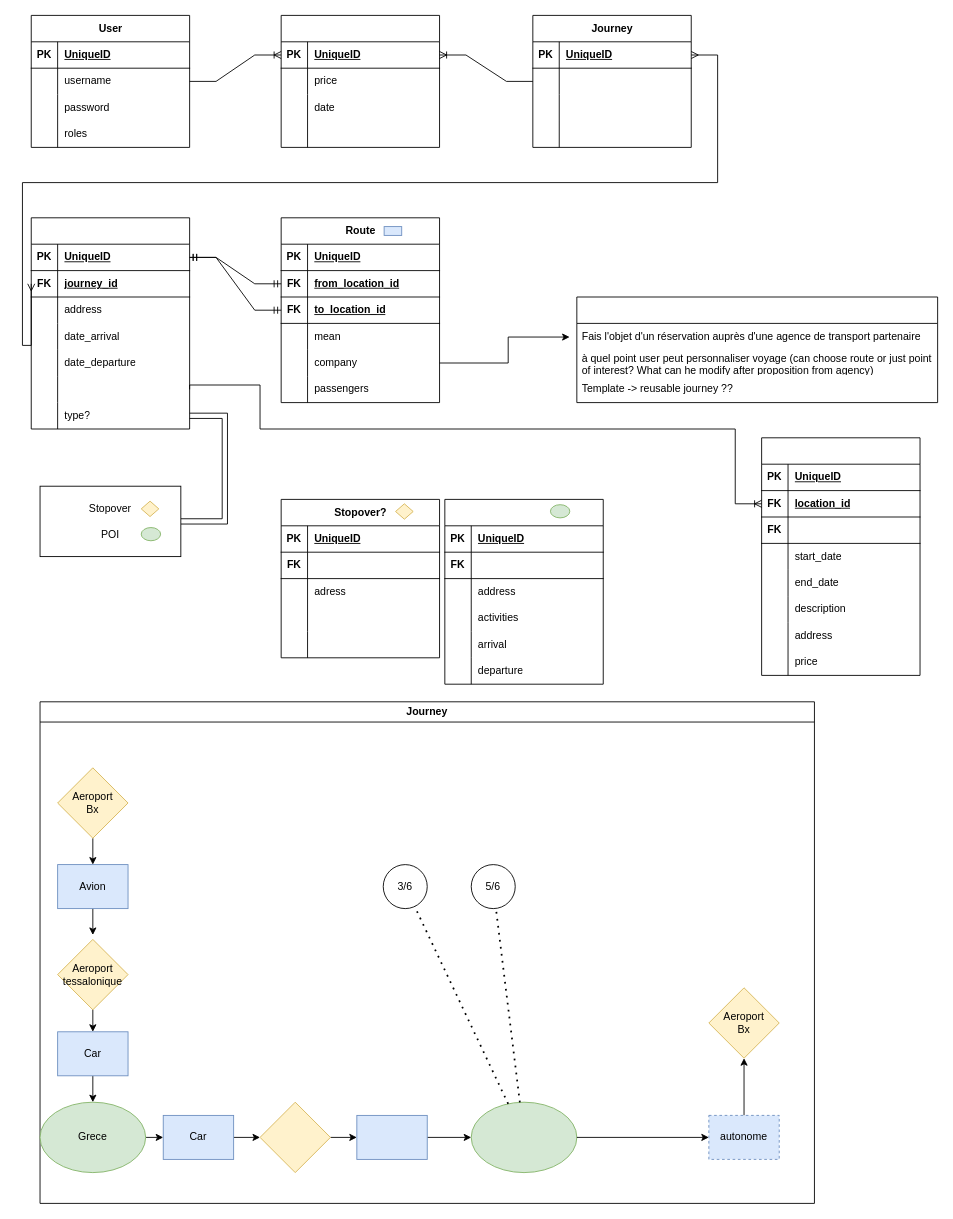
Image size: 953x1219. Some labels were removed from this diagram. Each missing label, with the box of its shape:
Activity: (761, 437, 920, 675)
bateau: (356, 1115, 427, 1159)
Booking: (280, 15, 440, 147)
List: (576, 296, 938, 403)
Location: (30, 217, 190, 429)
poi?: (444, 499, 603, 684)
Port Ormos: (259, 1101, 330, 1173)
Turquie: (470, 1101, 577, 1173)
